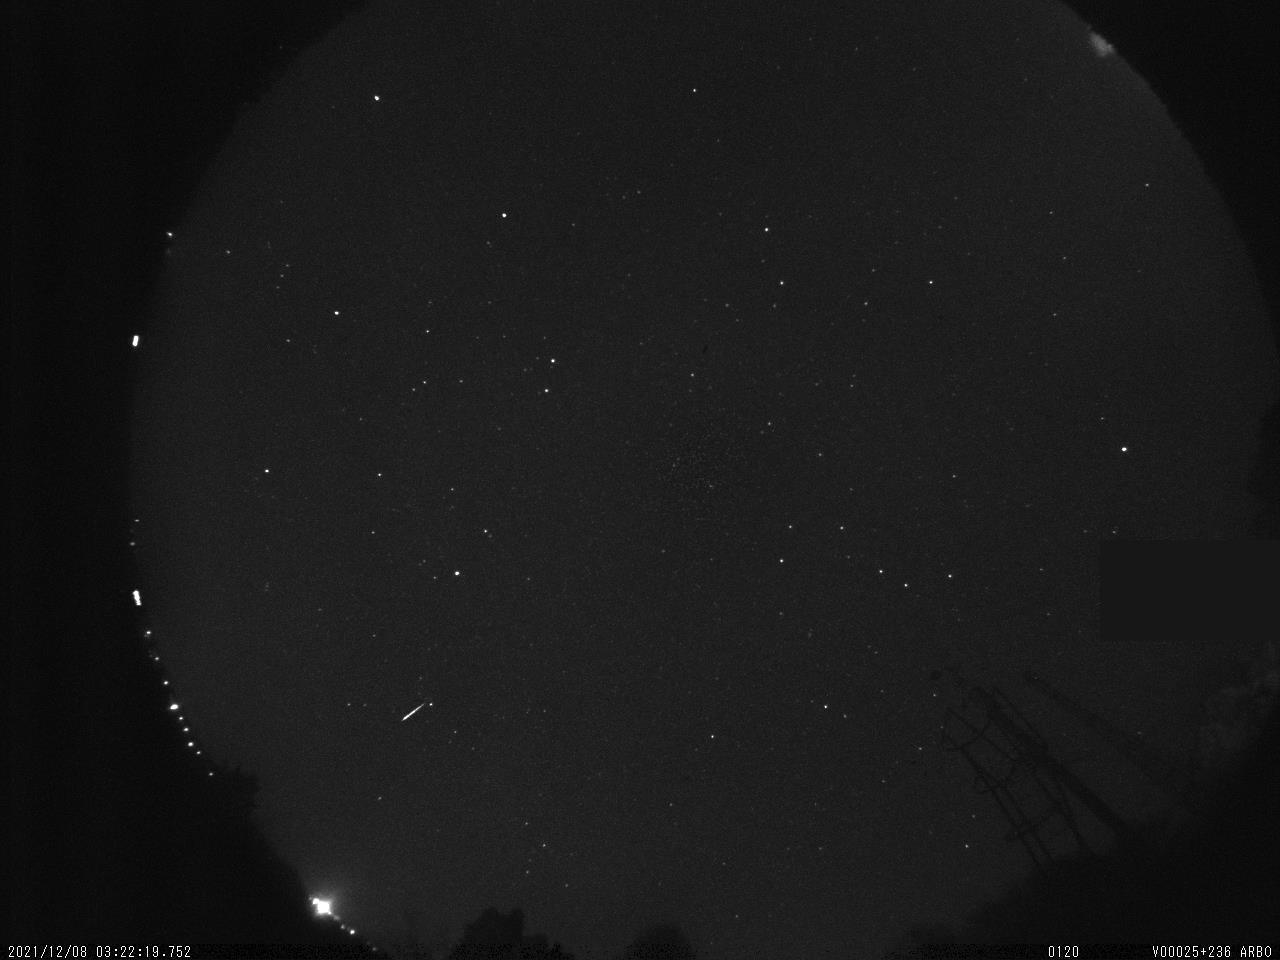meteor: (398, 697, 427, 733)
